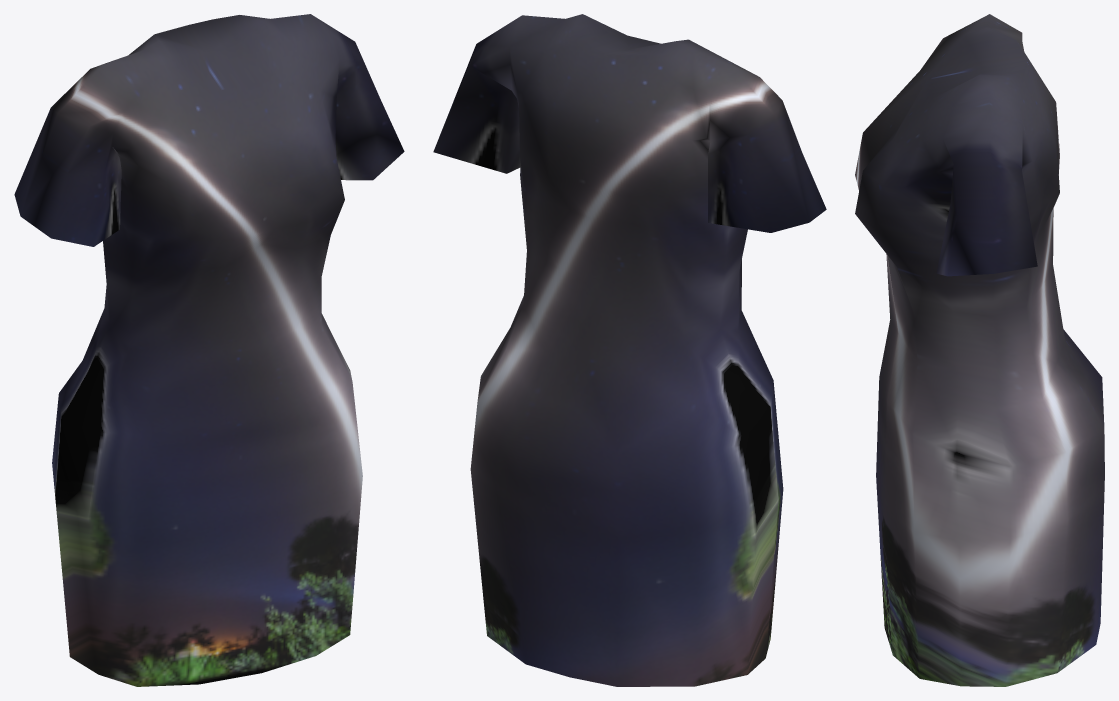
Rendered from dress-frame.glb.
3 views of the same model, side by side, from view 1: azimuth 30°, elevation 25°; view 2: azimuth 150°, elevation 25°; view 3: azimuth 270°, elevation 25° (orthographic). The views are drawn at different scales.
Parts seen in each view (by area): view 1: dress.003; view 2: dress.003; view 3: dress.003.
Boxes of the visible parts, <box> form: dress.003: <box>14,14,404,686</box>; dress.003: <box>433,14,826,686</box>; dress.003: <box>855,14,1104,686</box>.
Size of the model in its own units: 0.9724 by 1.54 by 0.6035.
1 material, 1 textured.
